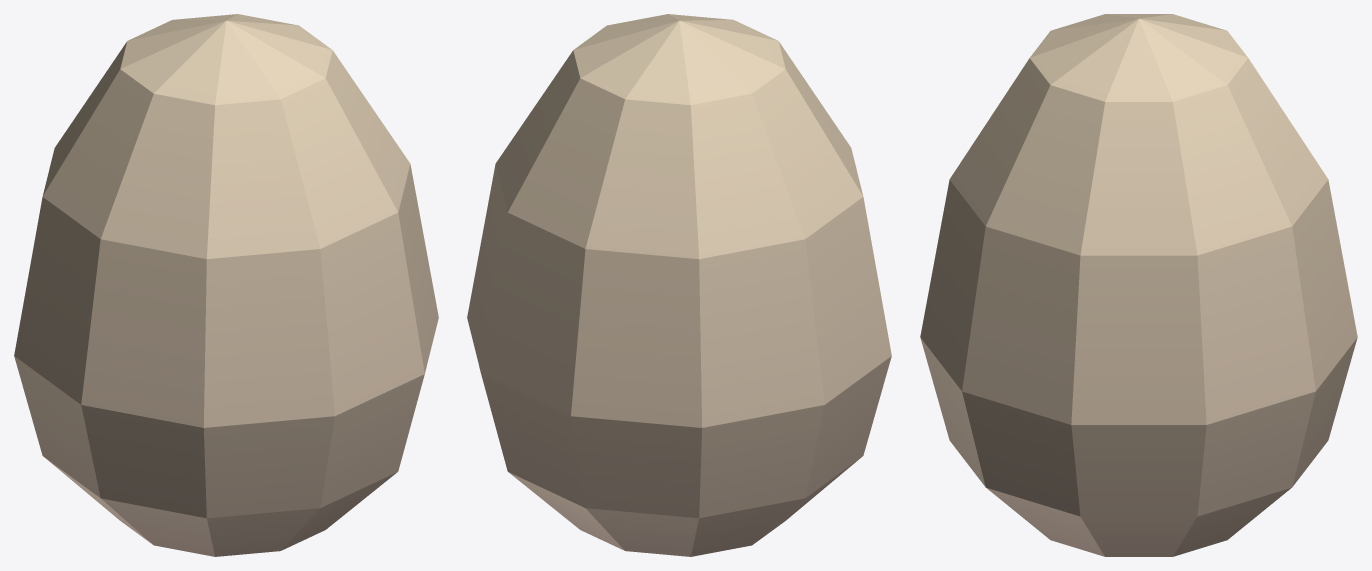
Rendered from Egg.fbx.
3 renders of one model, left to right at view 1: azimuth 30°, elevation 25°; view 2: azimuth 150°, elevation 25°; view 3: azimuth 270°, elevation 25°, orthographic.
Parts seen in each view (by area): view 1: Egg; view 2: Egg; view 3: Egg.
Boxes of the visible parts, box(x1,y1,x2,y2) form: Egg: box(14, 14, 438, 556); Egg: box(467, 14, 891, 556); Egg: box(920, 14, 1357, 556).
Size of the model in its own units: 0.4259 by 0.5882 by 0.4478.
